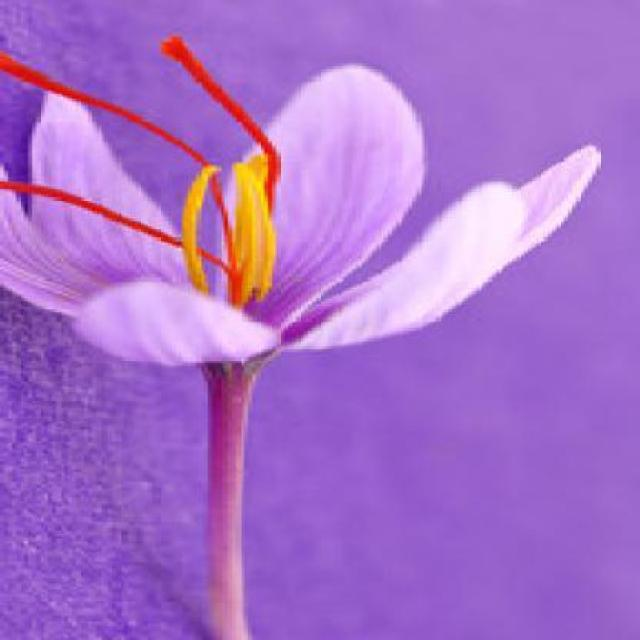Flower: (4, 70, 605, 392)
stigma: (0, 50, 242, 302), (154, 30, 286, 212), (0, 174, 230, 271)
